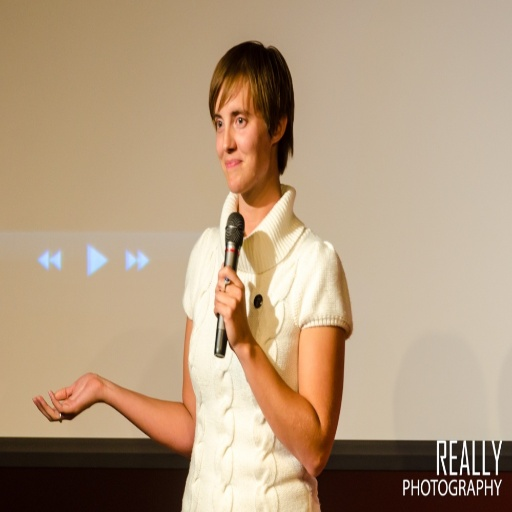hand: (211, 262, 251, 349), (32, 368, 96, 421)
